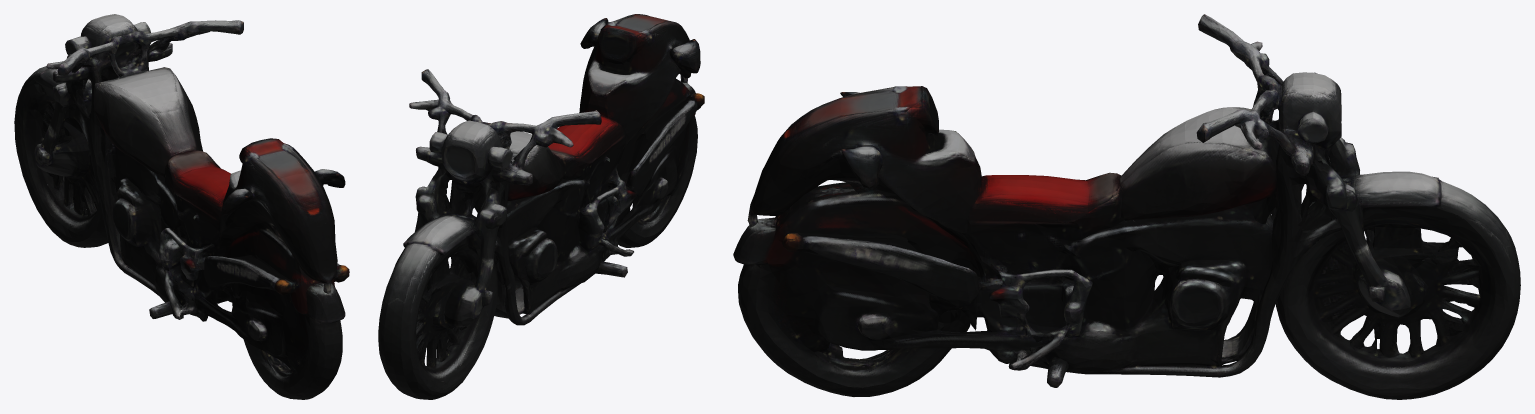
File: std_trellis_motorcycle.glb
The picture shows the model from 3 angles, left to right: view 1: azimuth 30°, elevation 25°; view 2: azimuth 150°, elevation 25°; view 3: azimuth 270°, elevation 25°; orthographic projection. The views are drawn at different scales.
Visible parts, largest first — view 1: world; view 2: world; view 3: world.
Boxes of the visible parts, <box> form: world: <box>14,14,349,399</box>; world: <box>378,14,704,399</box>; world: <box>733,14,1520,399</box>.
Size of the model in its own units: 0.3483 by 0.4599 by 1.
Materials: 1 (1 with a texture image).
